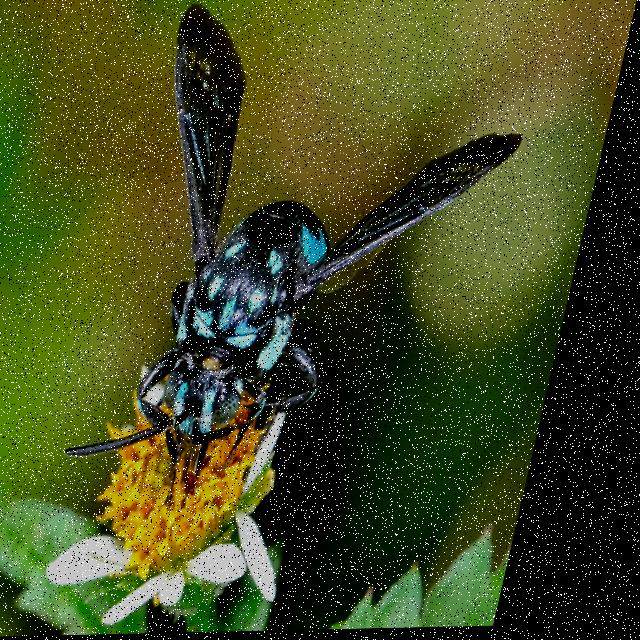Thyreus: (89, 0, 559, 497)
